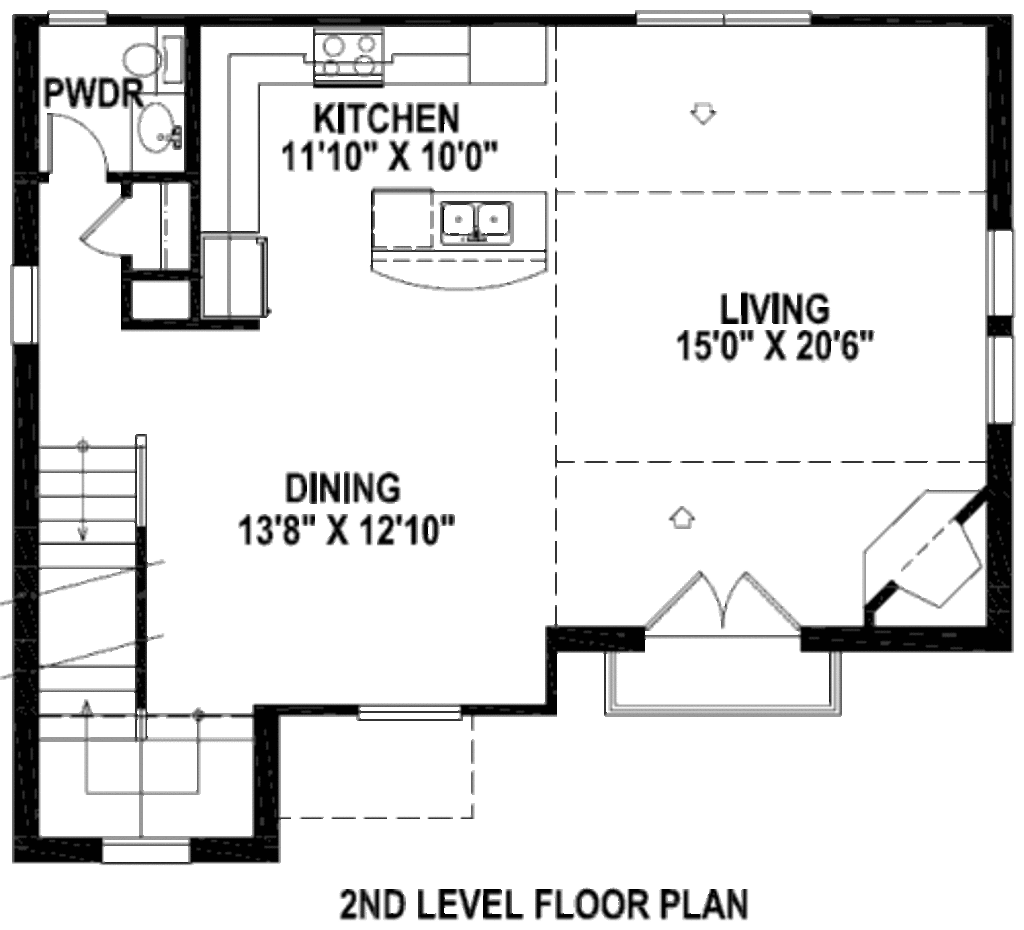door: (641, 567, 809, 649), (46, 109, 109, 177), (78, 190, 139, 260)
large_sink: (122, 30, 189, 91)
small_sink: (112, 85, 192, 170)
stairs: (30, 418, 253, 860)
twin_sink: (430, 191, 532, 253)
window: (636, 5, 820, 33), (981, 226, 1023, 323), (3, 259, 48, 347), (982, 332, 1024, 422), (358, 697, 461, 725), (43, 9, 117, 30)
